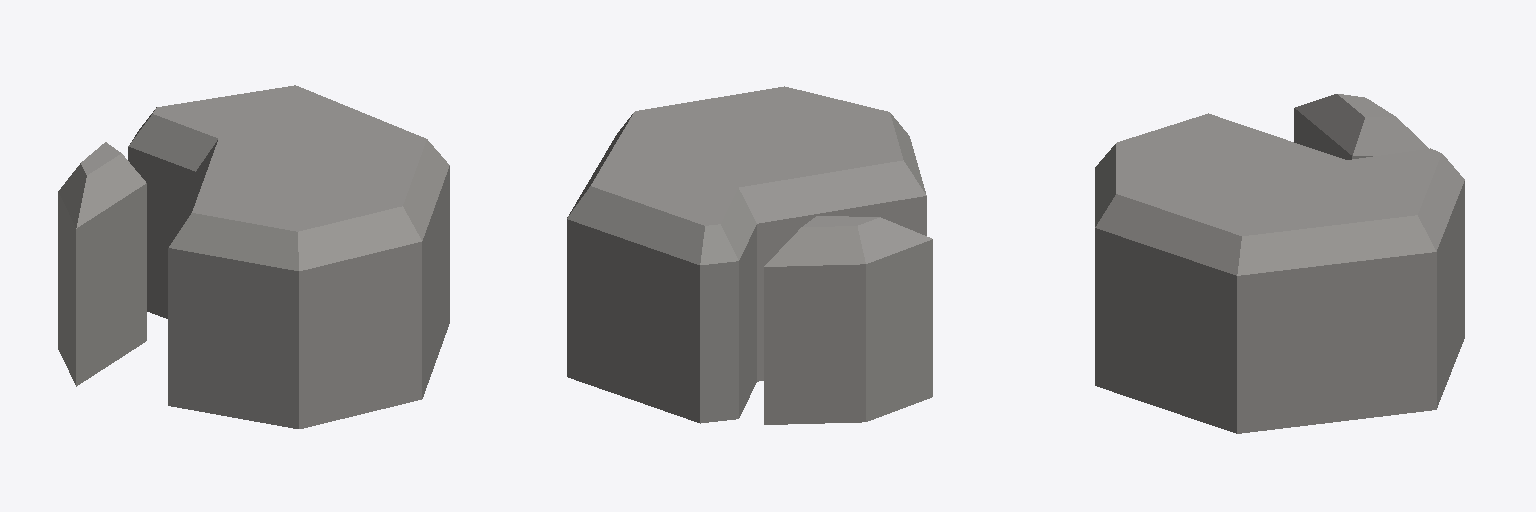
The model's file is Hilly_Prop_Stepping_Stones_4.obj.
3 views of the same model, side by side, from view 1: azimuth 30°, elevation 25°; view 2: azimuth 150°, elevation 25°; view 3: azimuth 270°, elevation 25° (orthographic).
Parts seen in each view (by area): view 1: object2, object1; view 2: object2, object1; view 3: object2, object1.
Part boxes in pixels (x1,y1,x2,y2): object2: (128, 85, 449, 428); object1: (58, 142, 146, 386); object2: (567, 86, 926, 423); object1: (764, 216, 932, 424); object2: (1095, 113, 1464, 433); object1: (1294, 94, 1428, 159).
Size of the model in its own units: 0.457 by 0.2375 by 0.4243.